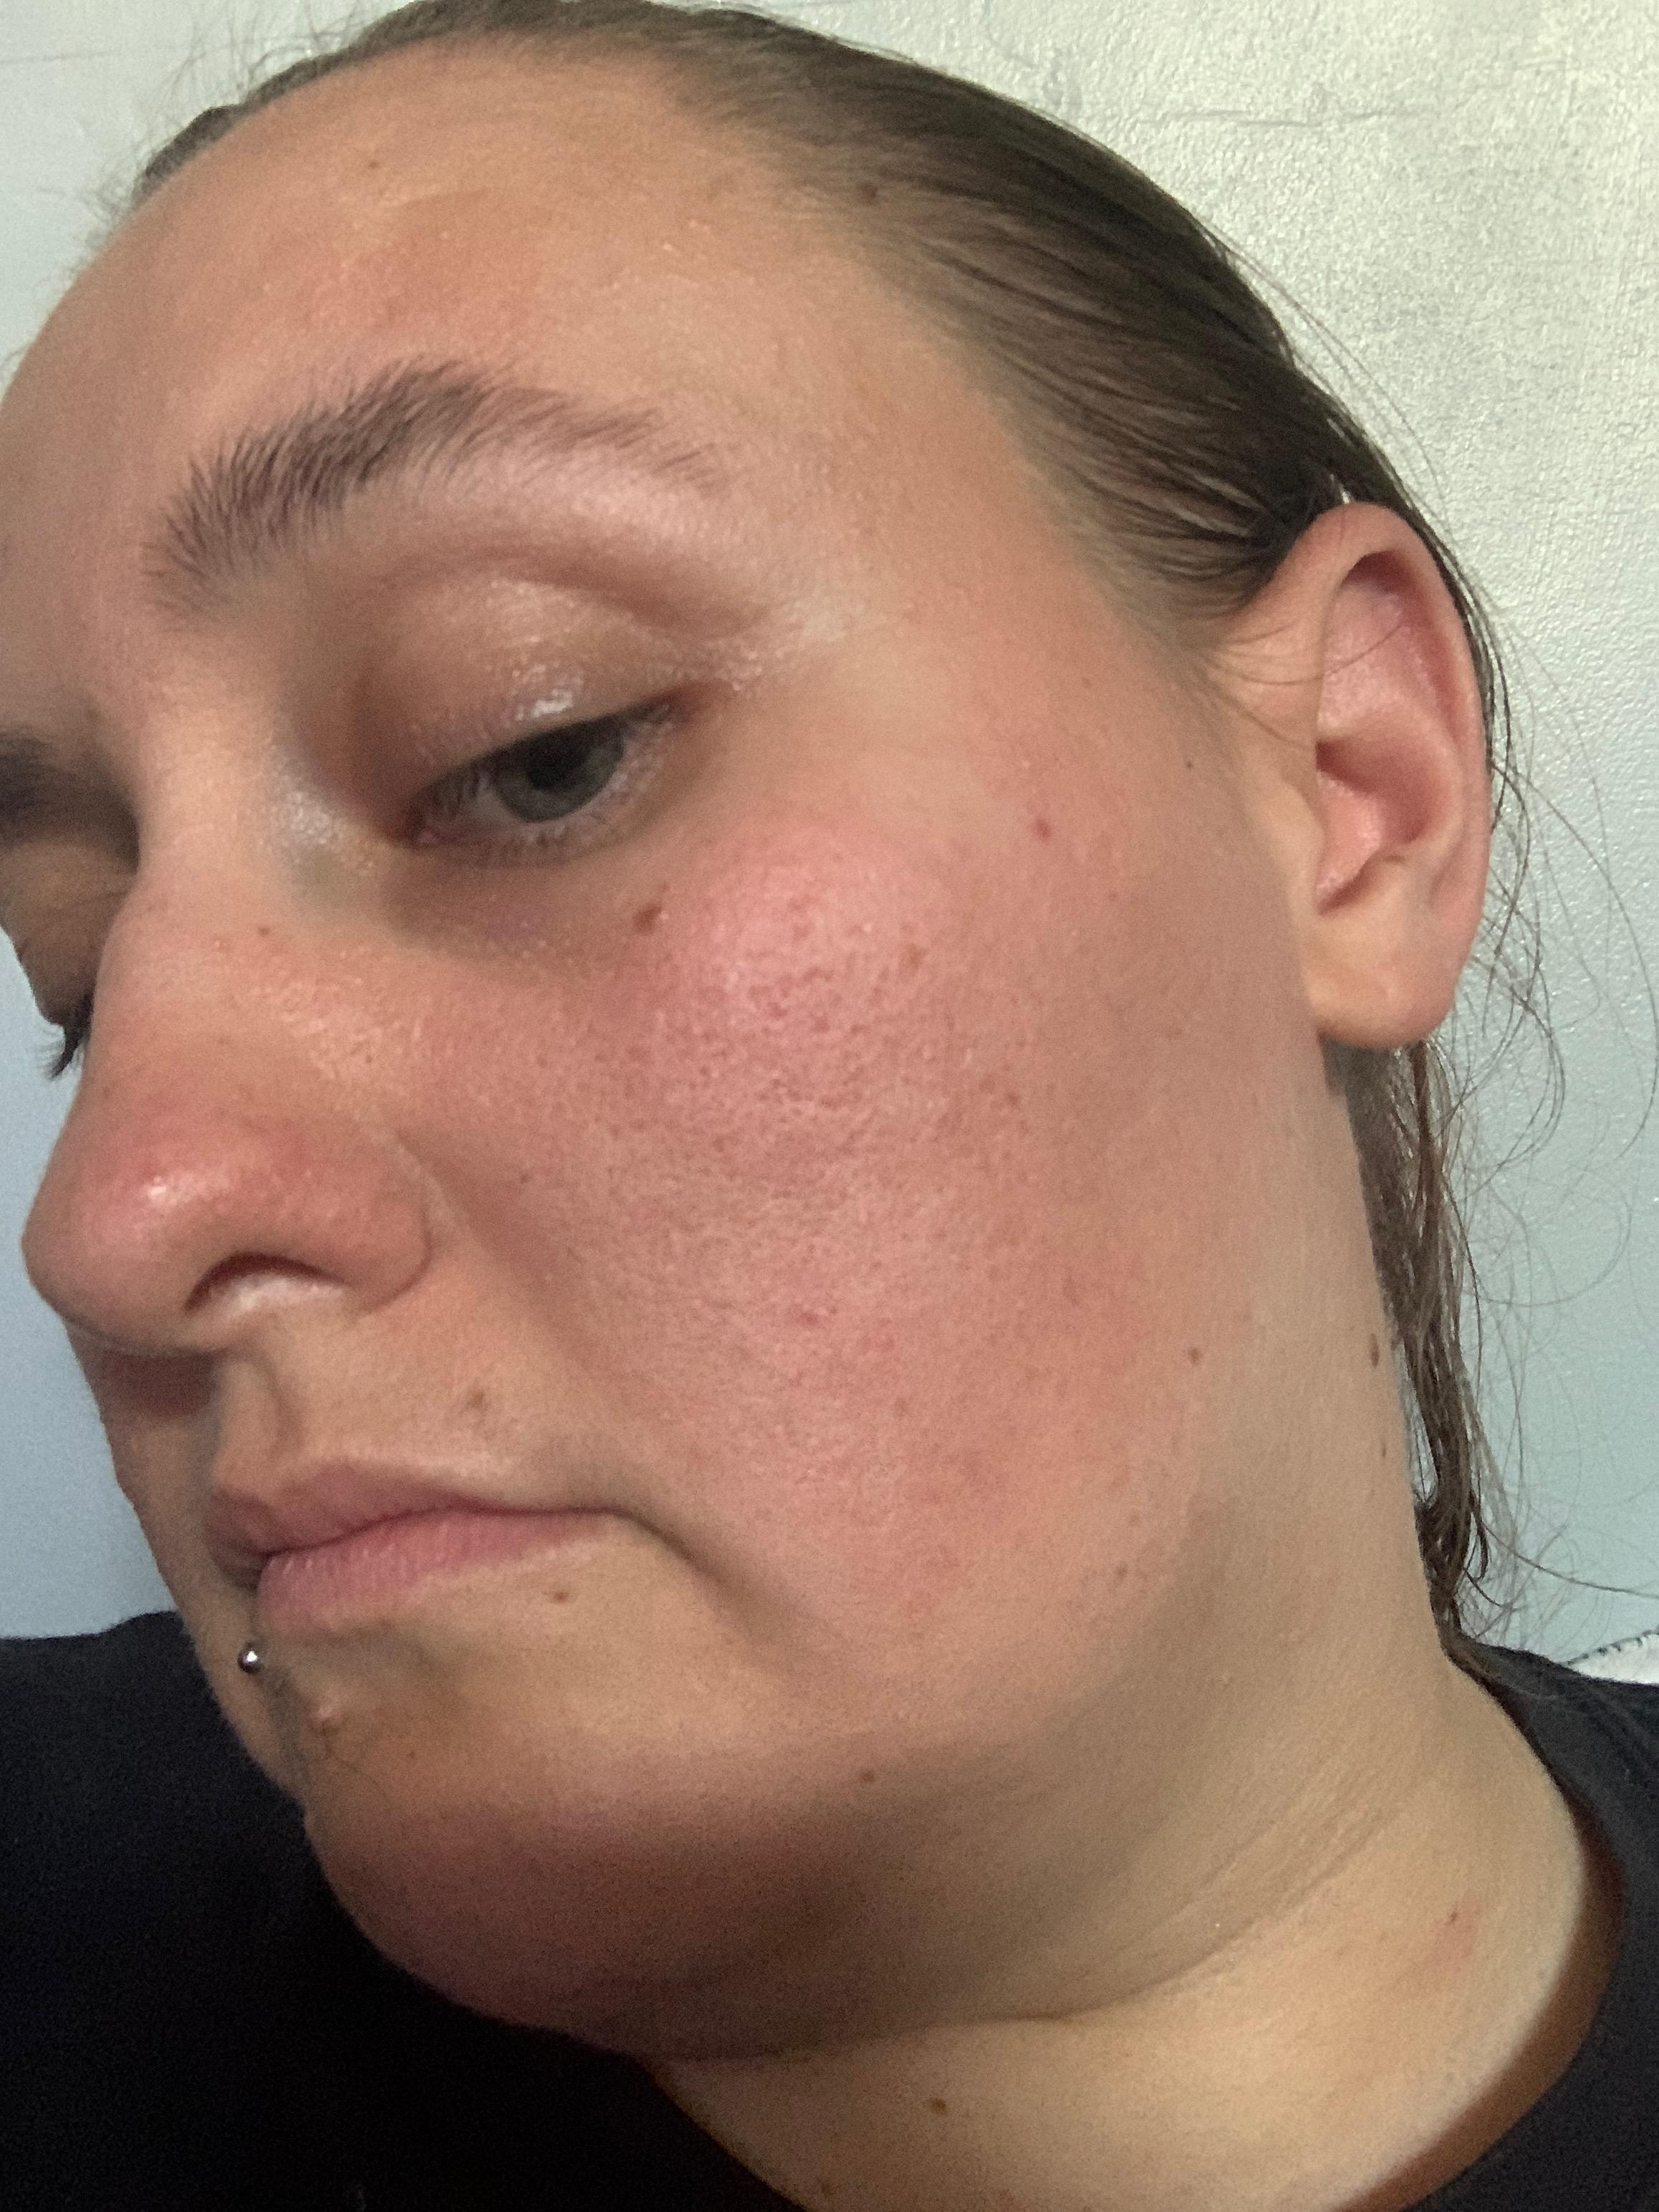Acne: (789, 1287, 852, 1348), (134, 1146, 190, 1214), (669, 206, 709, 260)
Englarged-Pores: (558, 914, 1032, 1381)
